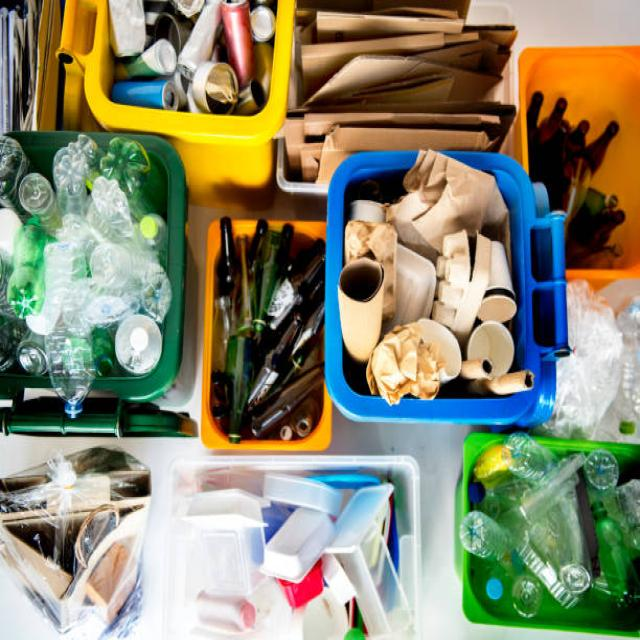cardboard: (352, 177, 532, 388), (308, 15, 510, 146)
glass: (222, 246, 312, 424), (536, 95, 624, 176)
metal: (127, 3, 249, 105)
paper: (486, 452, 631, 605)
plastic: (184, 463, 403, 632), (3, 148, 154, 391)
trash: (3, 453, 161, 640)
